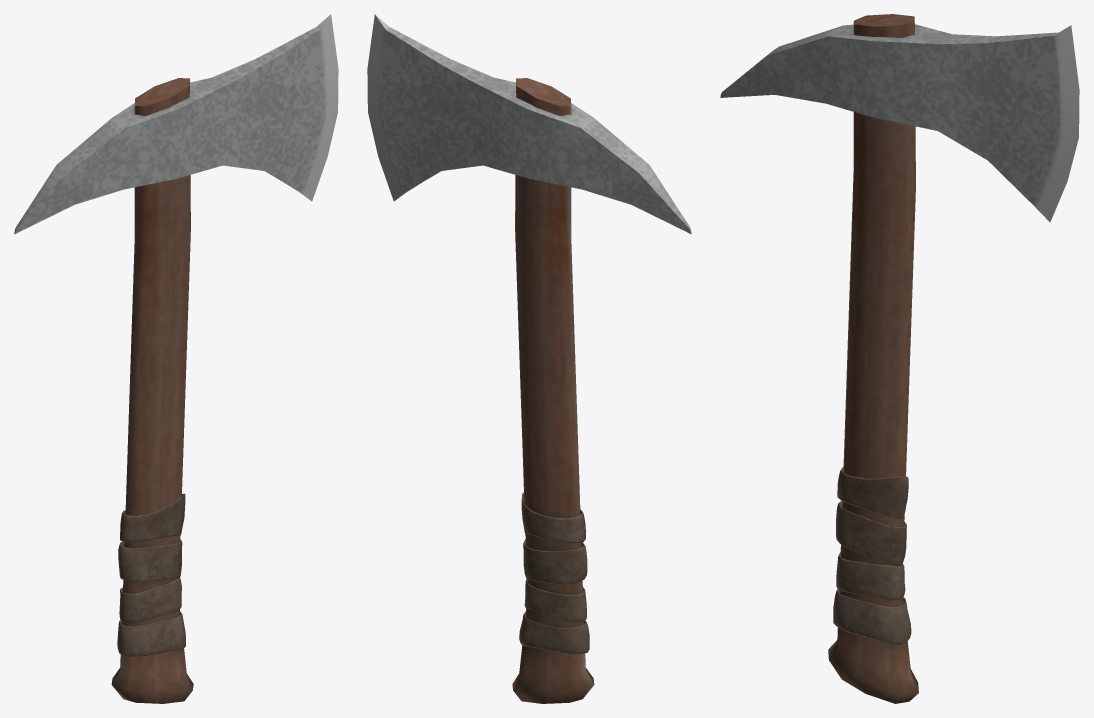
Rendered from axe.glb.
The picture shows the model from 3 angles, left to right: view 1: azimuth 30°, elevation 25°; view 2: azimuth 150°, elevation 25°; view 3: azimuth 330°, elevation 25°; orthographic projection. The views are drawn at different scales.
Visible parts, largest first — view 1: Axe; view 2: Axe; view 3: Axe.
Part boxes in pixels (left/top/right/bottom): Axe: left=14, top=14, right=338, bottom=703; Axe: left=367, top=14, right=691, bottom=703; Axe: left=720, top=14, right=1079, bottom=703.
Bounding box in the file's own units: 0.2931 × 0.559 × 0.0395.
1 material, 1 textured.
